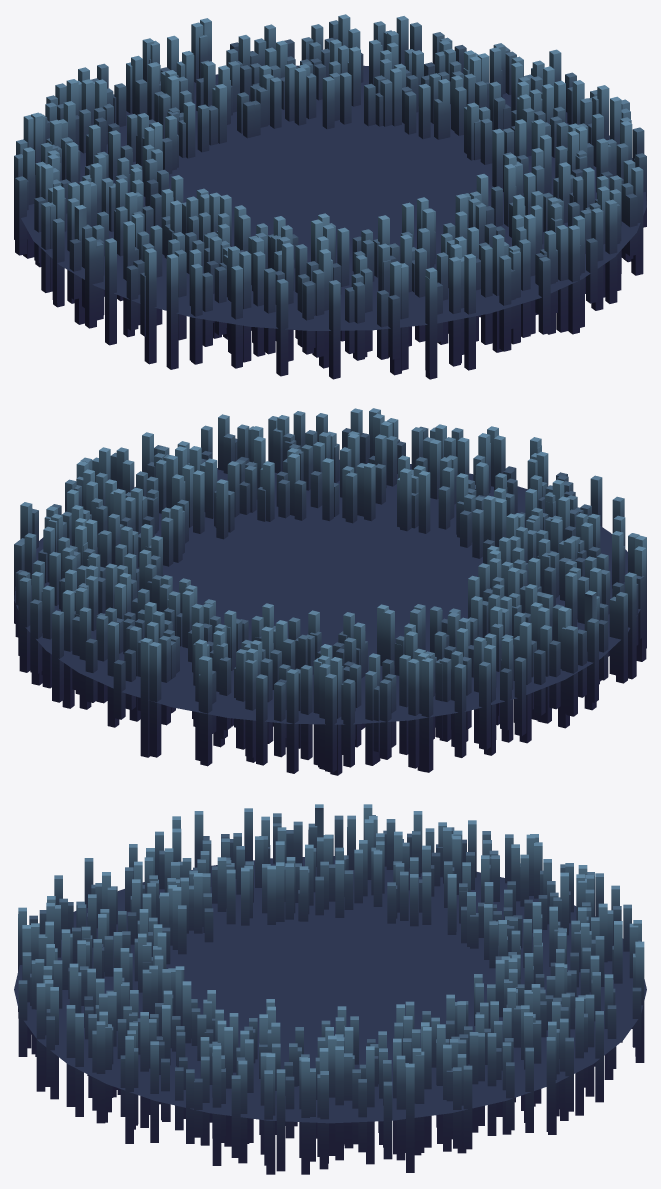
Rendered from proc_city_bake.glb.
3 renders of one model, top to bottom at view 1: azimuth 30°, elevation 25°; view 2: azimuth 150°, elevation 25°; view 3: azimuth 270°, elevation 25°, orthographic.
Parts seen in each view (by area): view 1: BuildingsRegion, ClearingRegion; view 2: BuildingsRegion, ClearingRegion; view 3: BuildingsRegion, ClearingRegion.
Boxes of the visible parts, x1=… form: BuildingsRegion: x1=14, y1=14, x2=646, y2=379; ClearingRegion: x1=169, y1=127, x2=493, y2=267; BuildingsRegion: x1=14, y1=408, x2=646, y2=775; ClearingRegion: x1=167, y1=521, x2=480, y2=659; BuildingsRegion: x1=14, y1=804, x2=646, y2=1174; ClearingRegion: x1=172, y1=919, x2=495, y2=1059.
Size of the model in its own units: 145 by 29.99 by 145.
1 material, 1 textured.
